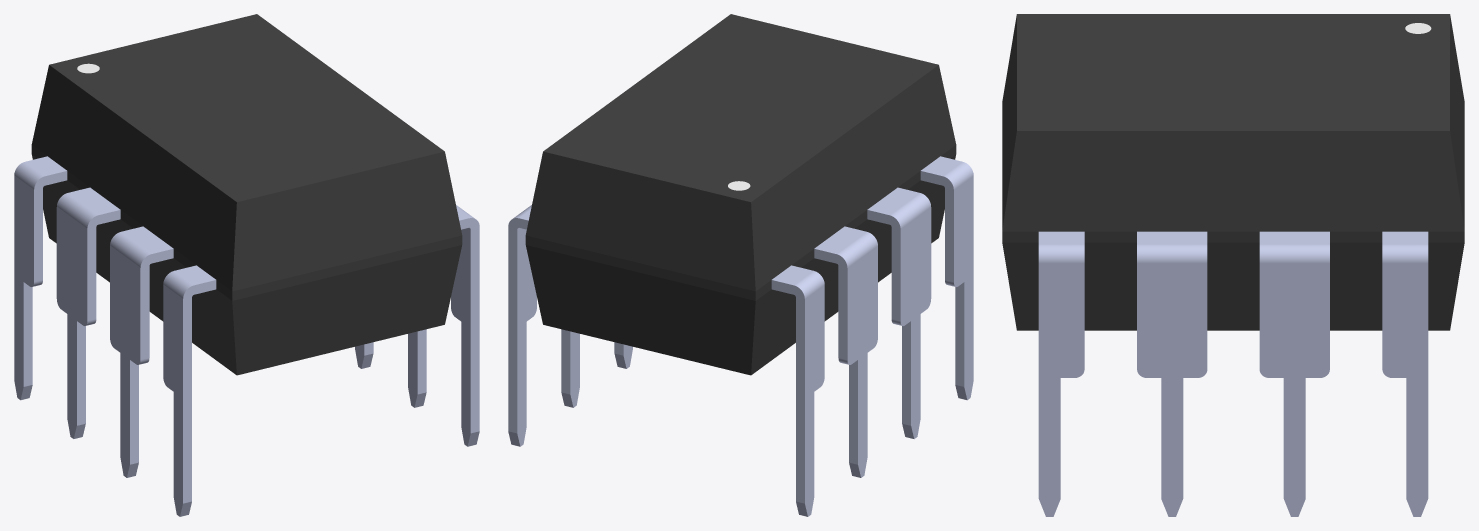
3 views of the same model, side by side, from view 1: azimuth 30°, elevation 25°; view 2: azimuth 150°, elevation 25°; view 3: azimuth 270°, elevation 25° (orthographic). The views are drawn at different scales.
Parts seen in each view (by area): view 1: mesh-0; view 2: mesh-0; view 3: mesh-0.
Part boxes in pixels (x1,y1,x2,y2): mesh-0: (14,14,479,516); mesh-0: (508,14,973,516); mesh-0: (1002,14,1464,516).
Bounding box in the file's own units: 8.19 × 8.26 × 9.59.
